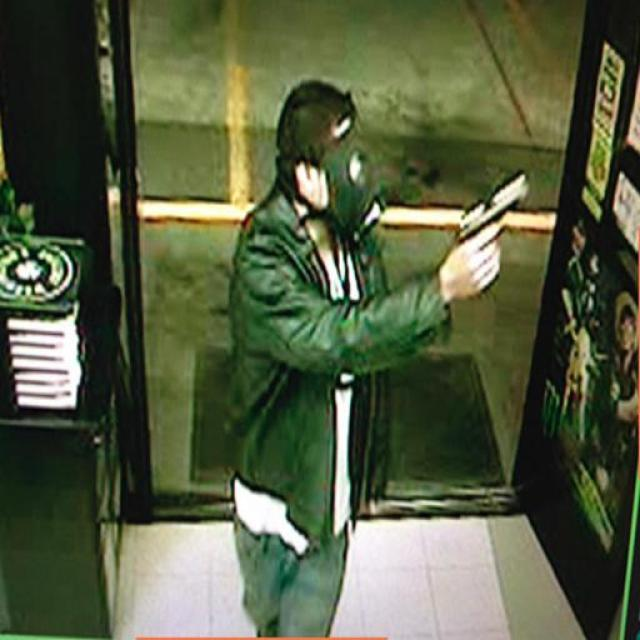pistol: (451, 156, 526, 267)
